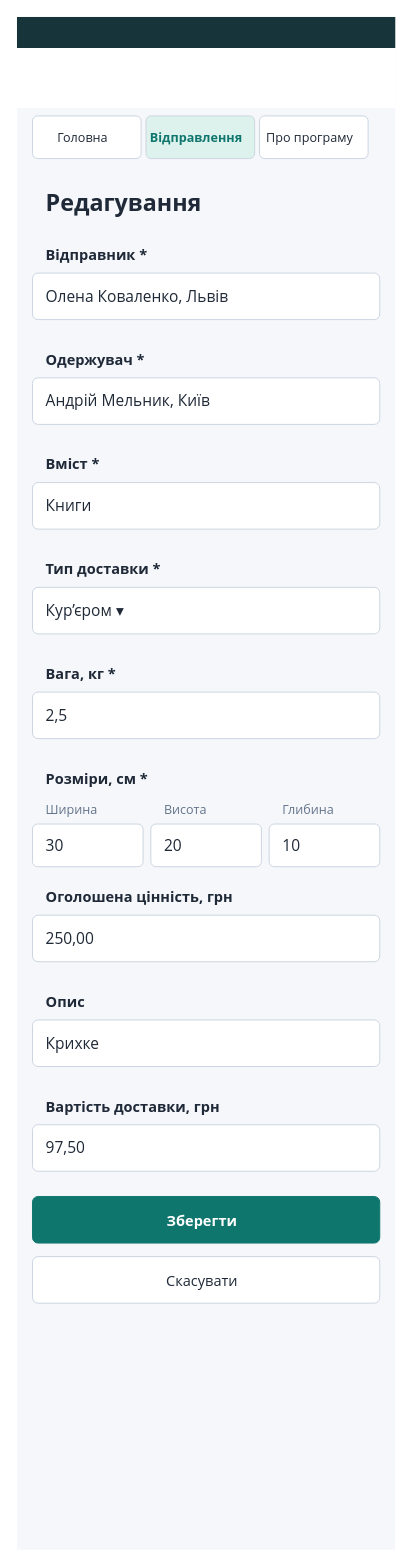
This 411x1566 diagram has some shape labels left out. Here are the shapes that lost their labels. From the top down, the centre of each, then its label:
At (x=205, y=32): "9:41 4G 100%".
At (x=205, y=78): "PostService".
